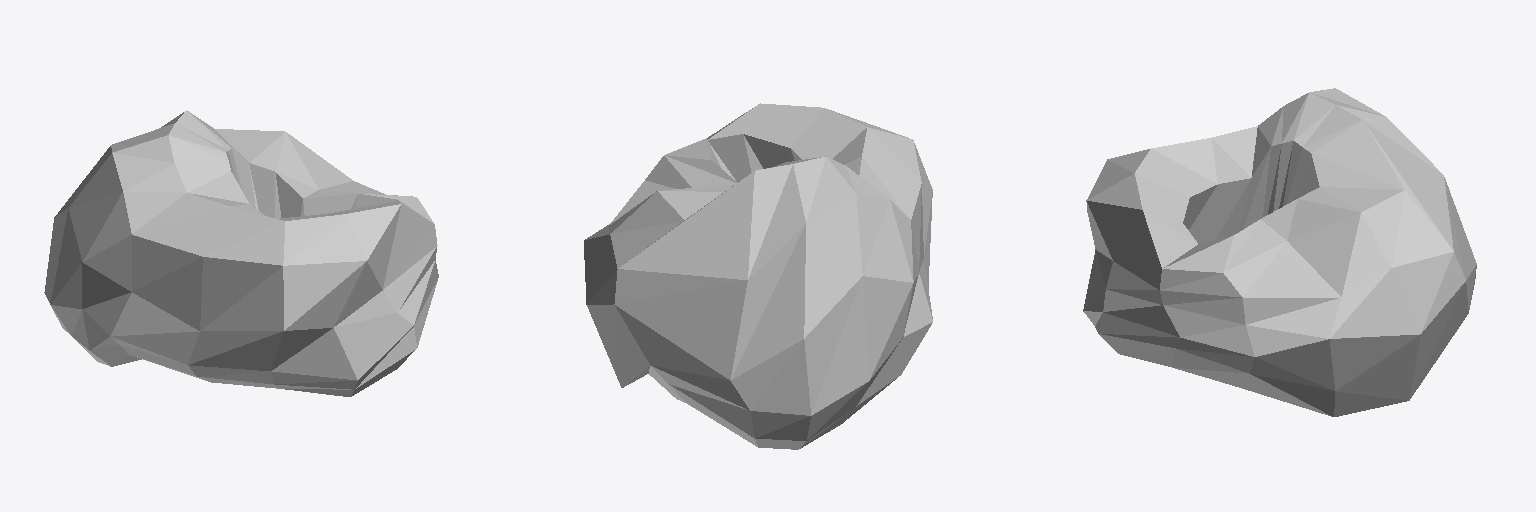
File: rock10.obj
3 renders of one model, left to right at view 1: azimuth 30°, elevation 25°; view 2: azimuth 150°, elevation 25°; view 3: azimuth 270°, elevation 25°, orthographic.
Parts seen in each view (by area): view 1: Torus; view 2: Torus; view 3: Torus.
Part boxes in pixels (left/top/right/bottom): Torus: left=44, top=110, right=438, bottom=396; Torus: left=584, top=103, right=932, bottom=449; Torus: left=1083, top=88, right=1476, bottom=416.
Size of the model in its own units: 4.7 by 3.61 by 5.03.